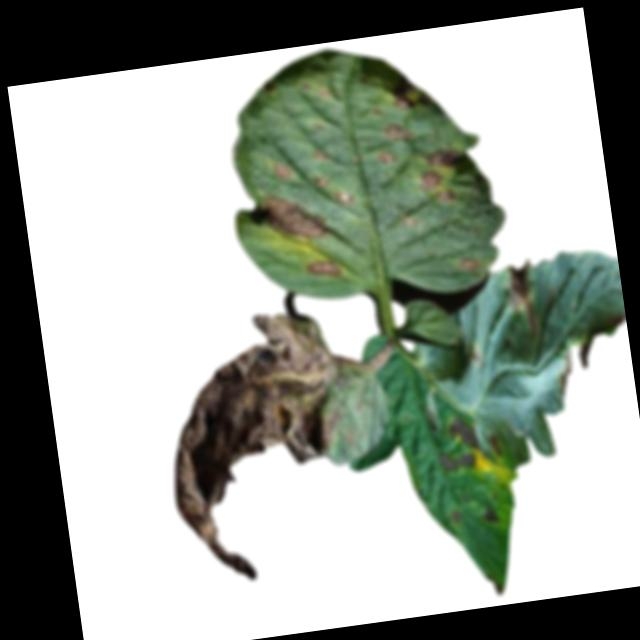Early_blight: (147, 307, 372, 594), (255, 193, 326, 246), (499, 261, 542, 342), (417, 149, 467, 210), (552, 343, 581, 401), (448, 411, 483, 451), (433, 448, 479, 474), (303, 258, 343, 283), (378, 121, 411, 146), (372, 147, 397, 169), (389, 90, 412, 112), (333, 188, 354, 207), (458, 253, 480, 271), (481, 506, 499, 527), (445, 508, 464, 527), (270, 162, 289, 181), (312, 175, 330, 188), (310, 152, 324, 164)
